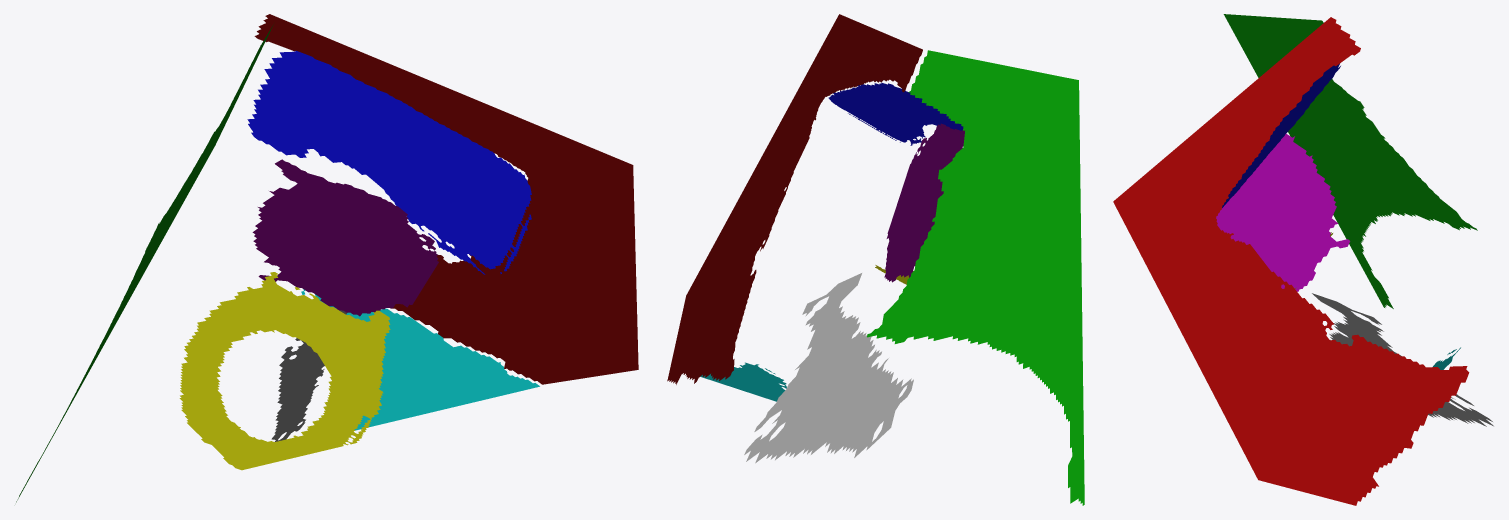
File: 250_seg_GTplane.glb
The picture shows the model from 3 angles, left to right: view 1: azimuth 30°, elevation 25°; view 2: azimuth 150°, elevation 25°; view 3: azimuth 270°, elevation 25°; orthographic projection. The views are drawn at different scales.
Bounding box in the file's own units: 1.28 × 1.04 × 0.9385.
